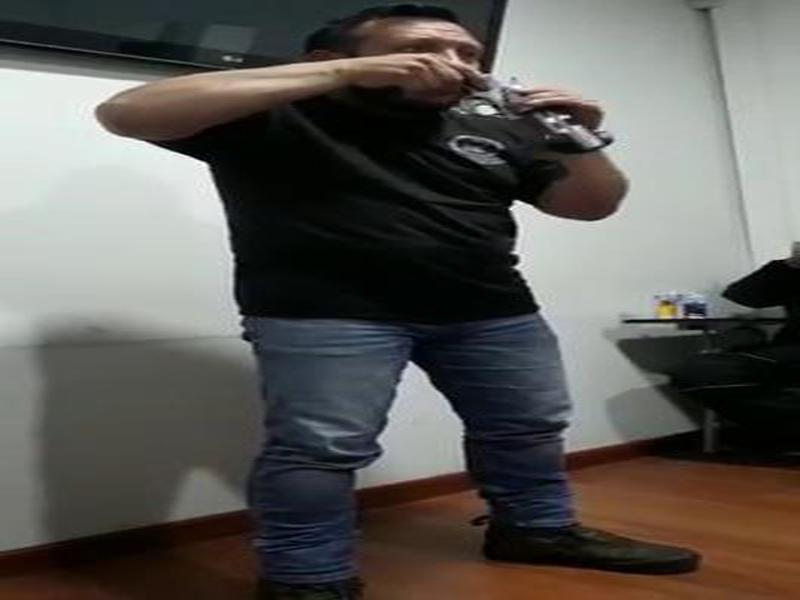Revolver: (405, 54, 630, 174)
